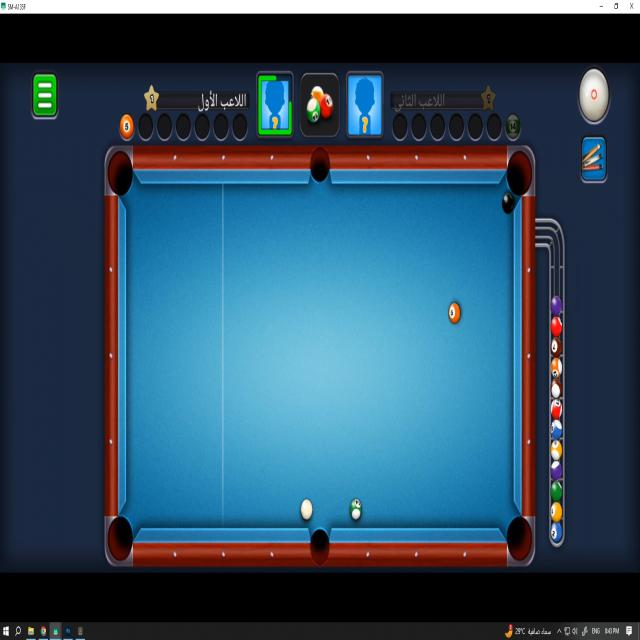object_ball: (502, 192, 514, 213), (350, 499, 361, 520), (449, 303, 460, 323)
white_cue_ball: (301, 499, 312, 520)
